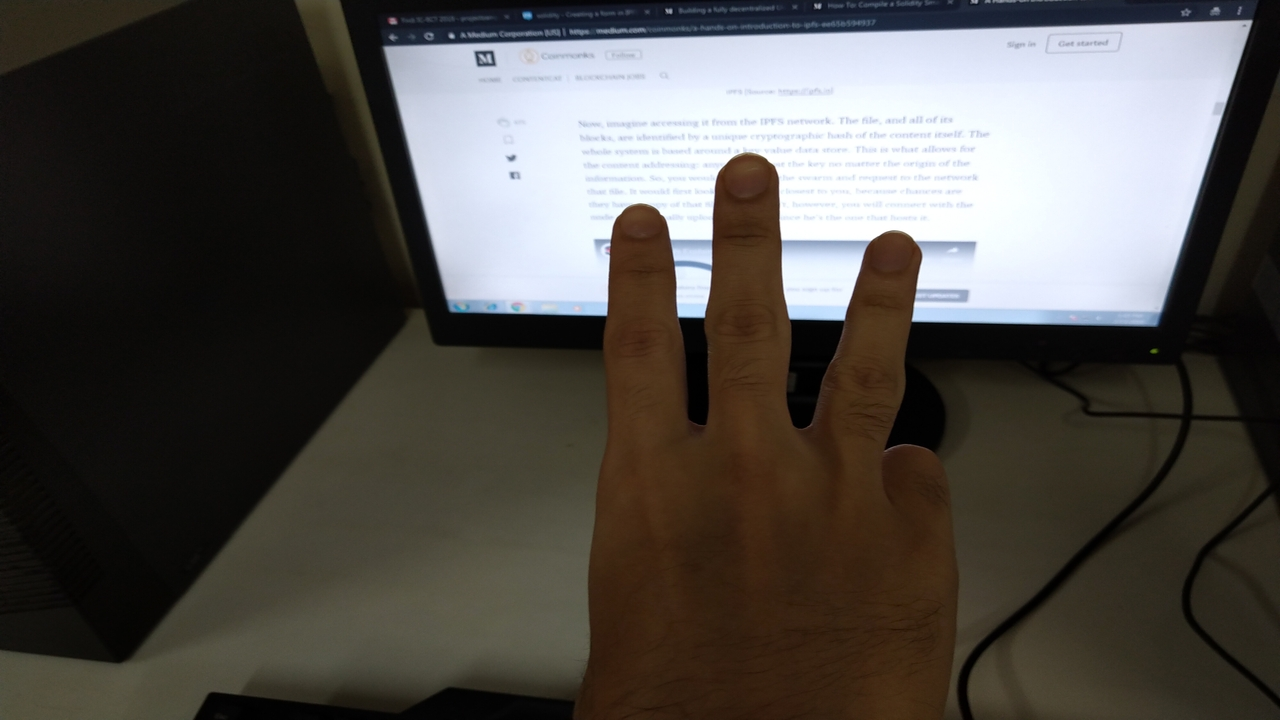fingertip: (710, 154, 784, 212), (606, 200, 674, 252), (860, 226, 924, 280)
